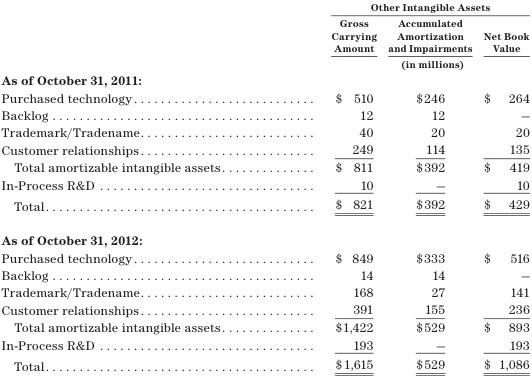table: (0, 0, 528, 373)
table column: (0, 0, 277, 373), (277, 0, 381, 373), (381, 0, 477, 373), (477, 0, 528, 373)
table column header: (0, 0, 528, 71)
table projected row header: (0, 222, 528, 248), (0, 71, 528, 88)
table row: (0, 14, 528, 55), (0, 193, 528, 222), (0, 222, 528, 248), (0, 353, 528, 373), (0, 88, 528, 106), (0, 140, 528, 158), (0, 175, 528, 193), (0, 248, 528, 266), (0, 300, 528, 318), (0, 335, 528, 353), (0, 71, 528, 88), (0, 106, 528, 123), (0, 123, 528, 140), (0, 158, 528, 175), (0, 266, 528, 283), (0, 283, 528, 300), (0, 318, 528, 335), (0, 55, 528, 71), (0, 0, 528, 14)
table spanning cell: (277, 55, 528, 71), (277, 0, 528, 14)
